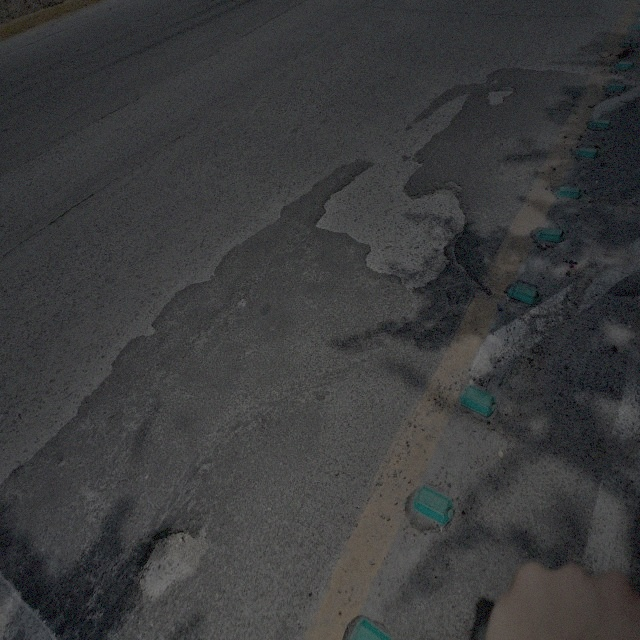pothole: (314, 159, 468, 301), (136, 522, 209, 608), (487, 85, 514, 111)
